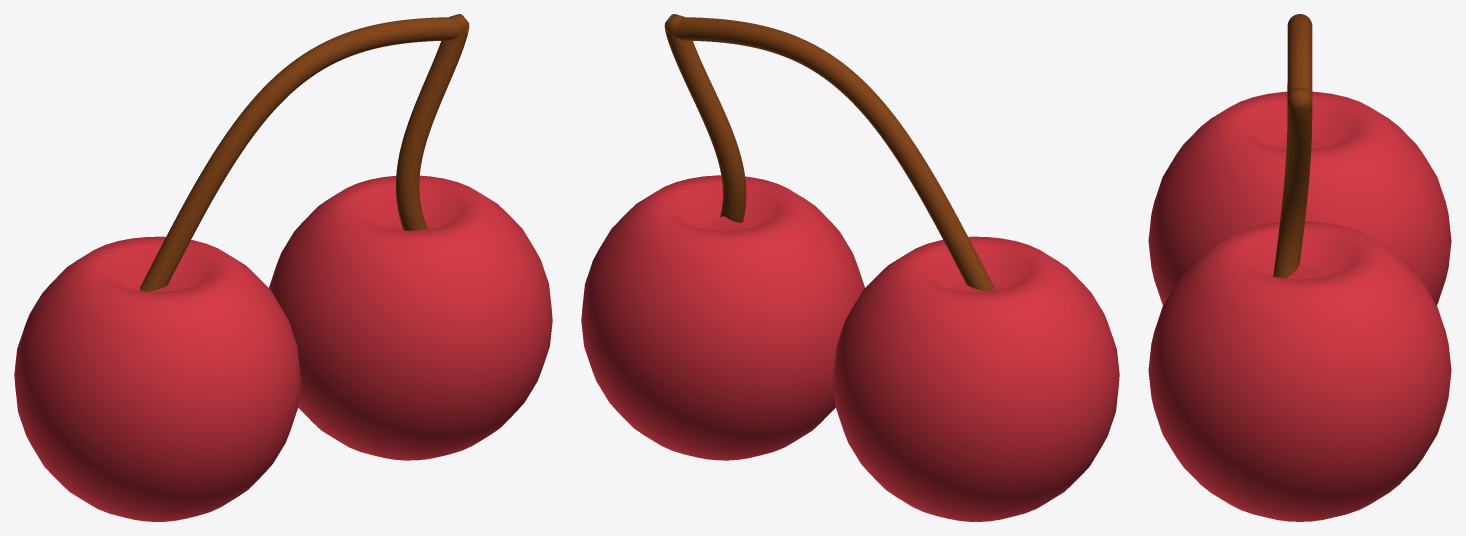
The model's file is Cherry.fbx.
3 views of the same model, side by side, from view 1: azimuth 30°, elevation 25°; view 2: azimuth 150°, elevation 25°; view 3: azimuth 270°, elevation 25° (orthographic). The views are drawn at different scales.
Parts seen in each view (by area): view 1: Sphere, Sphere_001, NurbsPath_001; view 2: Sphere, Sphere_001, NurbsPath_001; view 3: Sphere_001, Sphere, NurbsPath_001.
Boxes of the visible parts, x1=… form: Sphere: x1=14, y1=236, x2=300, y2=521; Sphere_001: x1=269, y1=175, x2=552, y2=460; NurbsPath_001: x1=140, y1=14, x2=469, y2=291; Sphere: x1=833, y1=236, x2=1119, y2=521; Sphere_001: x1=581, y1=175, x2=864, y2=460; NurbsPath_001: x1=664, y1=14, x2=994, y2=291; Sphere_001: x1=1148, y1=221, x2=1451, y2=521; Sphere: x1=1148, y1=91, x2=1451, y2=305; NurbsPath_001: x1=1273, y1=14, x2=1312, y2=278.
Bounding box in the file's own units: 4.02 × 3.3 × 2.
